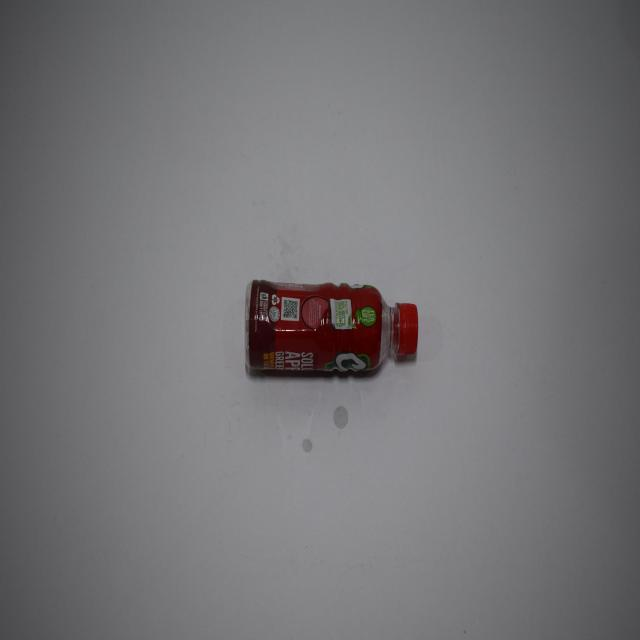bottle: (238, 272, 427, 386)
